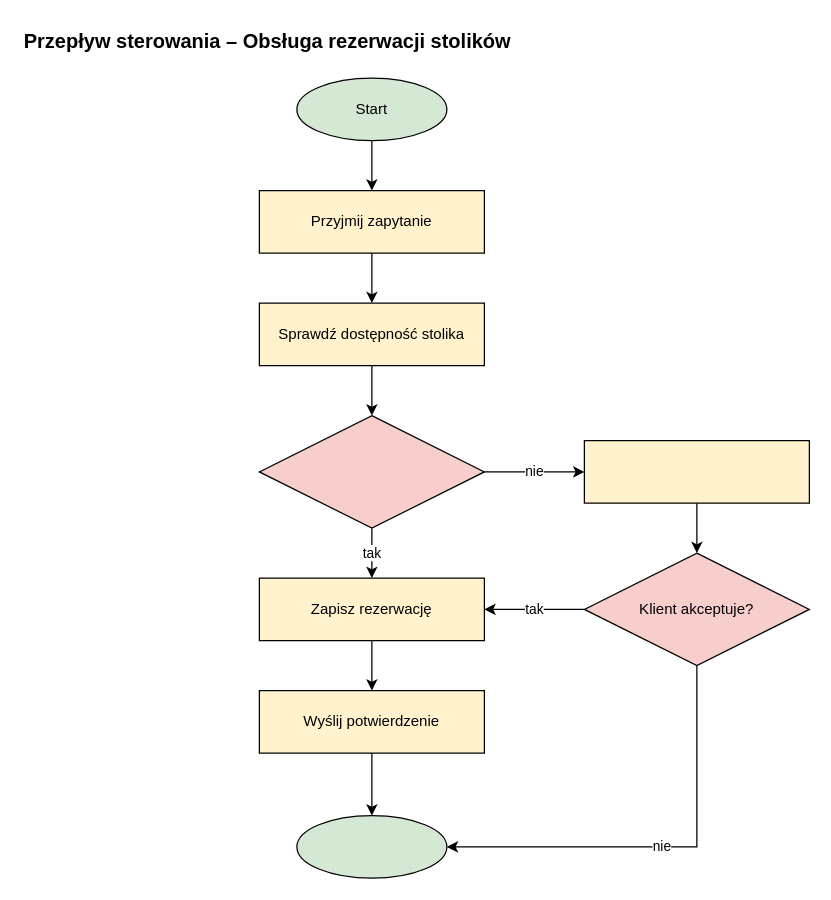
Some shapes in this 831 by 900 pixel diagram are drawn without their labels. The shapes that lost their labels are listed below. From the top down, each one's centre as x and y in pixels, then its label:
At (371,471): "Stolik wolny?".
At (696,471): "Zaproponuj inny termin".
At (371,846): "Koniec".
